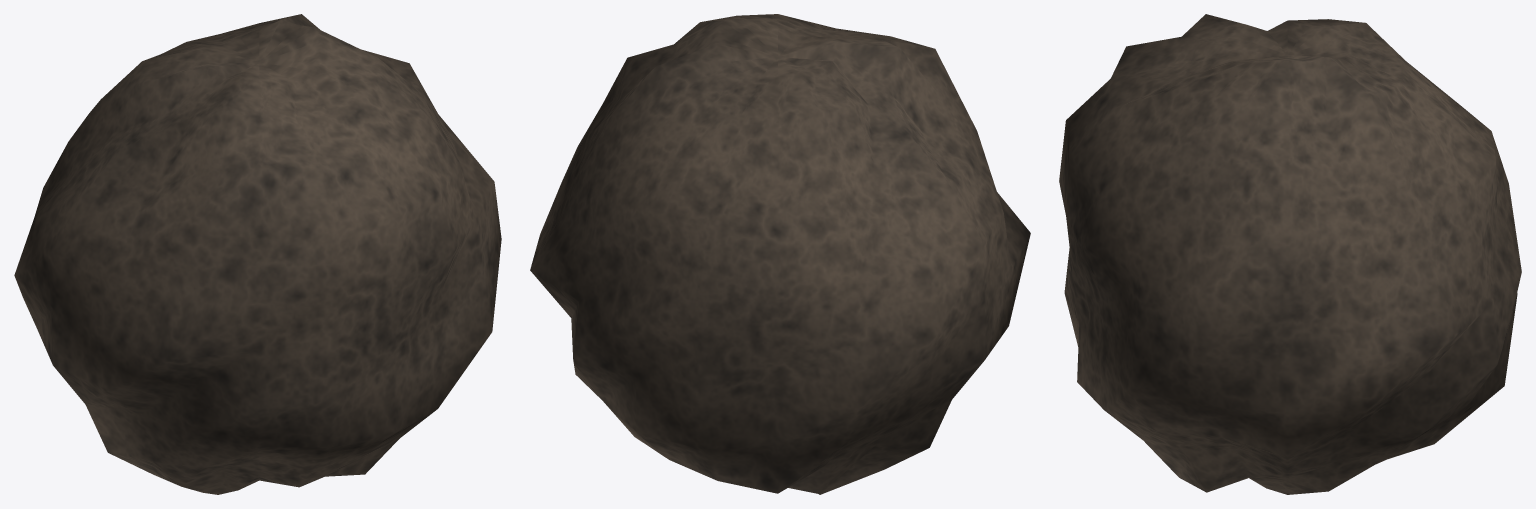
File: asteroid_small.obj
3 renders of one model, left to right at view 1: azimuth 30°, elevation 25°; view 2: azimuth 150°, elevation 25°; view 3: azimuth 270°, elevation 25°, orthographic. The views are drawn at different scales.
Parts seen in each view (by area): view 1: asteroid_small; view 2: asteroid_small; view 3: asteroid_small.
Part boxes in pixels (<box>): asteroid_small: <box>14,14,501,494</box>; asteroid_small: <box>530,14,1030,494</box>; asteroid_small: <box>1059,14,1521,494</box>.
Size of the model in its own units: 1.83 by 1.88 by 1.75.
1 material, 1 textured.
